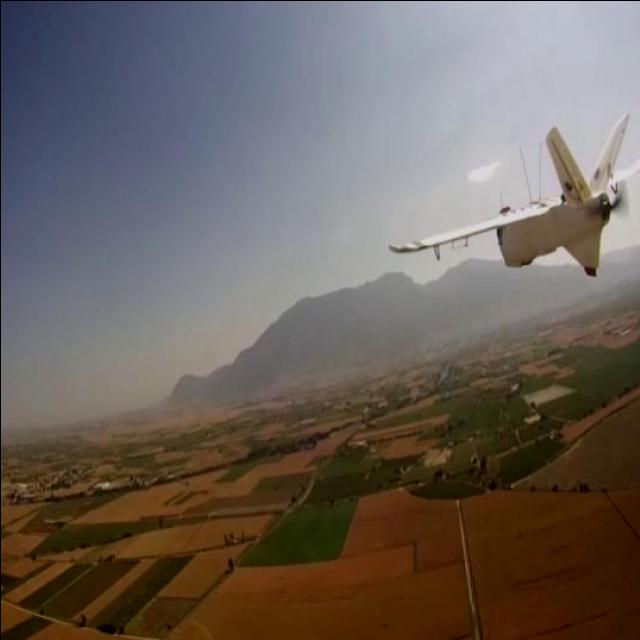plane: (386, 108, 640, 277)
